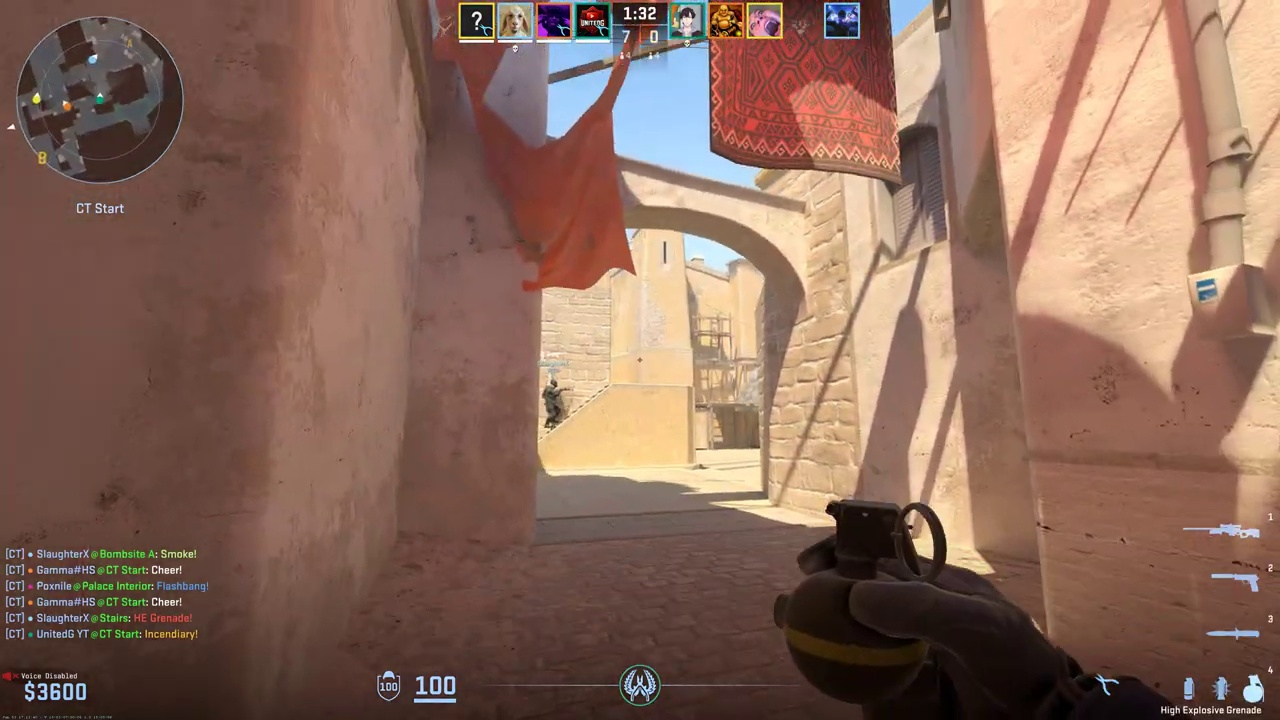CT: (542, 380, 562, 428)
